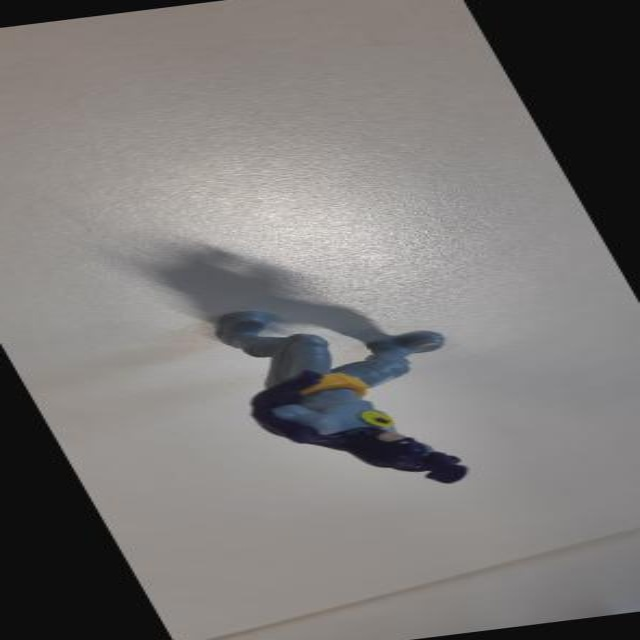Batman: (170, 287, 533, 520)
